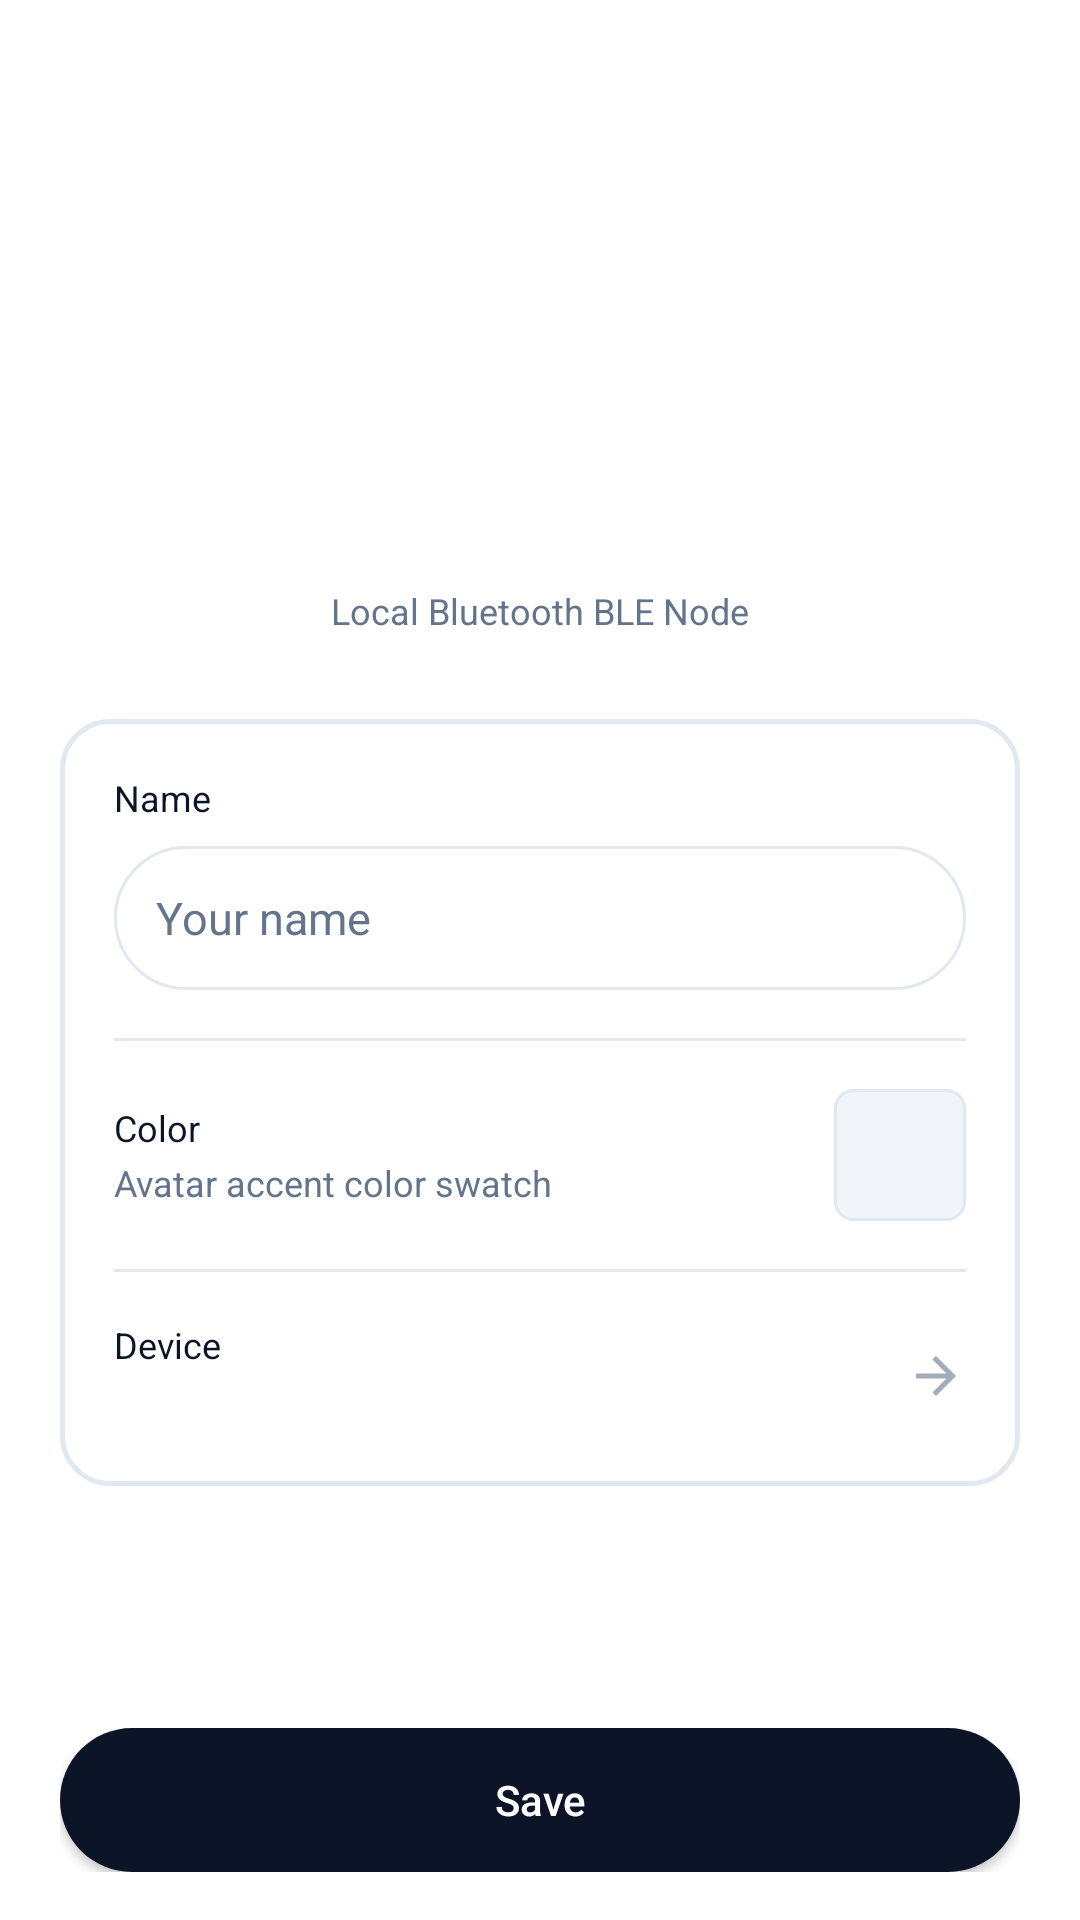

Icon bounding boxes for this 1080w x 1920h phone screenshot, format (x1, y1, x2, y2):
arrow forward: (916, 1356, 956, 1396)
